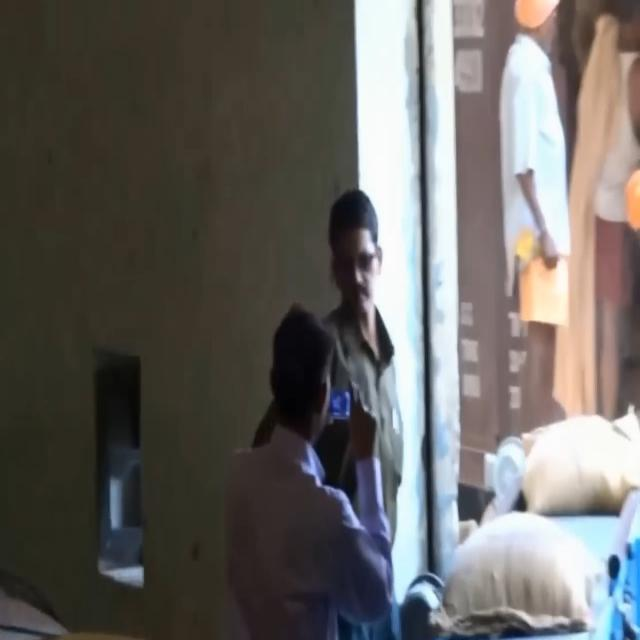gunny_bag: (425, 513, 597, 640), (515, 412, 638, 515)
